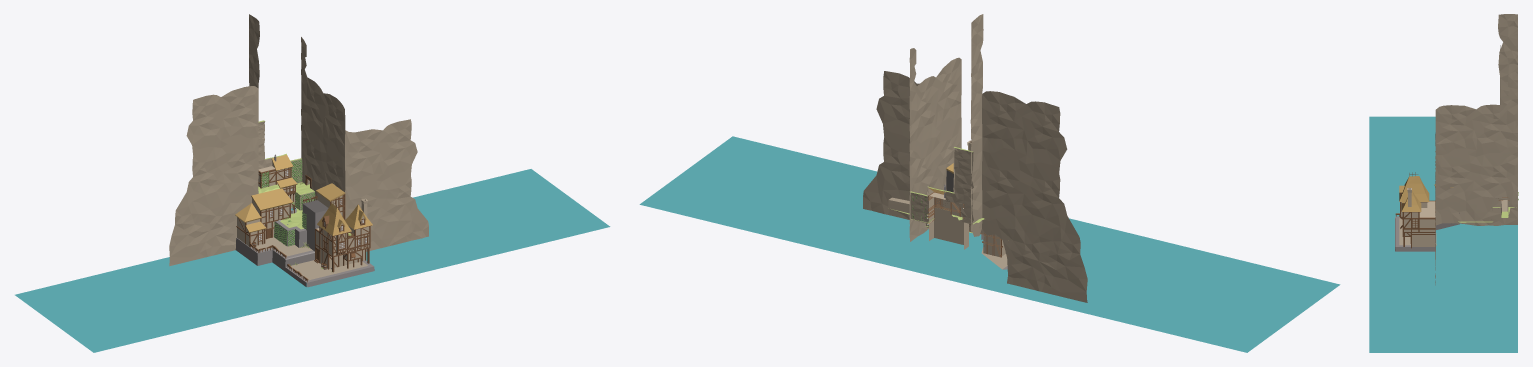
The picture shows the model from 3 angles, left to right: view 1: azimuth 30°, elevation 25°; view 2: azimuth 150°, elevation 25°; view 3: azimuth 270°, elevation 25°; orthographic projection. The views are drawn at different scales.
Parts seen in each view (by area): view 1: 0; view 2: 0; view 3: 0.
Boxes of the visible parts, left/top/right/bottom form: 0: left=15, top=14, right=610, bottom=352; 0: left=639, top=14, right=1340, bottom=352; 0: left=1369, top=14, right=1518, bottom=352.
Bounding box in the file's own units: 69.31 × 29.65 × 18.54.
Materials: 1 (1 with a texture image).
